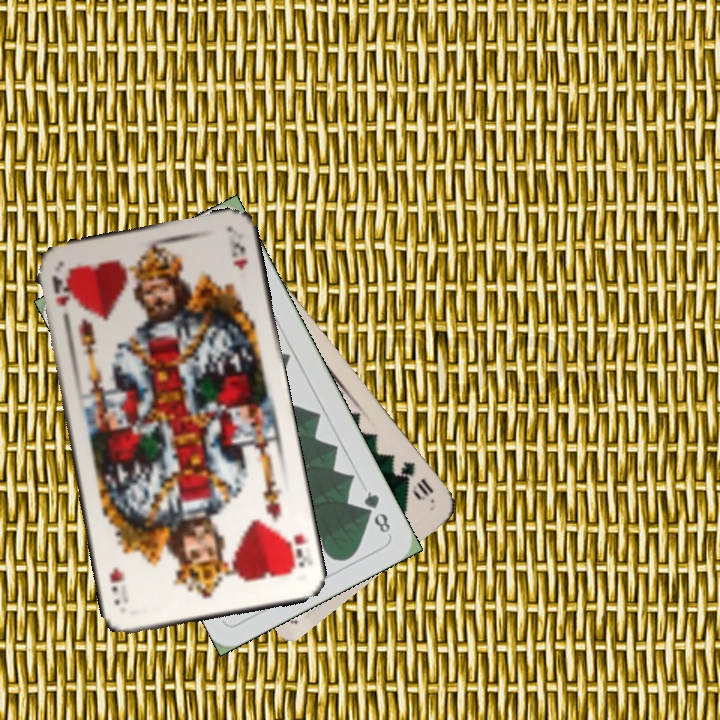G10: (395, 457, 437, 503)
G8: (360, 487, 393, 536)
HK: (282, 530, 309, 576), (47, 270, 73, 309)
